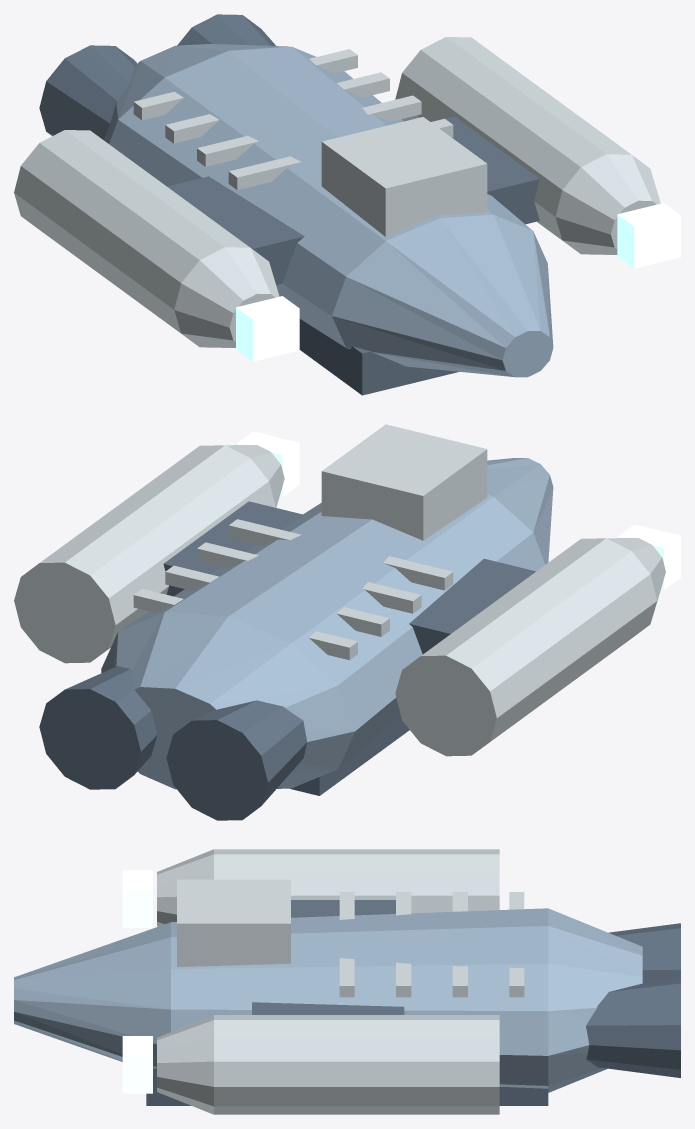
The picture shows the model from 3 angles, top to bottom: view 1: azimuth 30°, elevation 25°; view 2: azimuth 150°, elevation 25°; view 3: azimuth 270°, elevation 25°; orthographic projection. The views are drawn at different scales.
Size of the model in its own units: 5.06 by 1.95 by 6.79.
